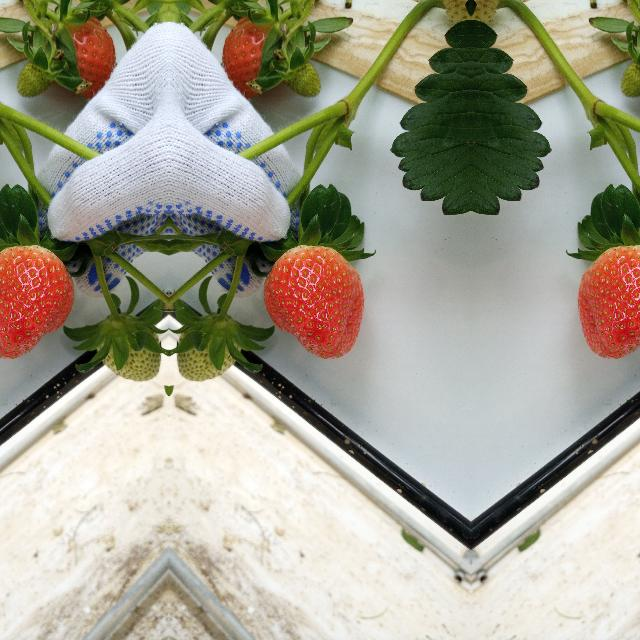Health_100: (262, 245, 364, 359), (0, 245, 74, 359), (221, 6, 299, 106), (37, 6, 115, 106), (577, 245, 640, 359)
